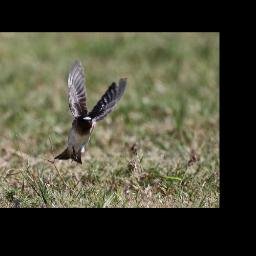Swallow: (54, 59, 127, 164)
